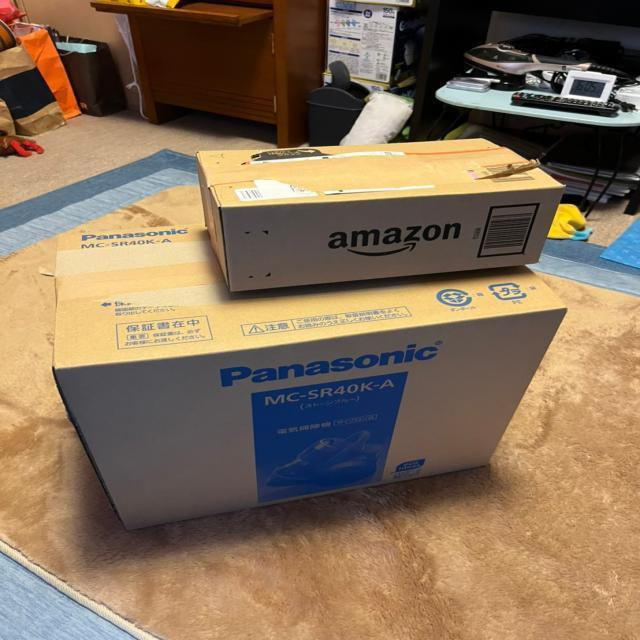box: (44, 196, 574, 534), (185, 134, 570, 297)
